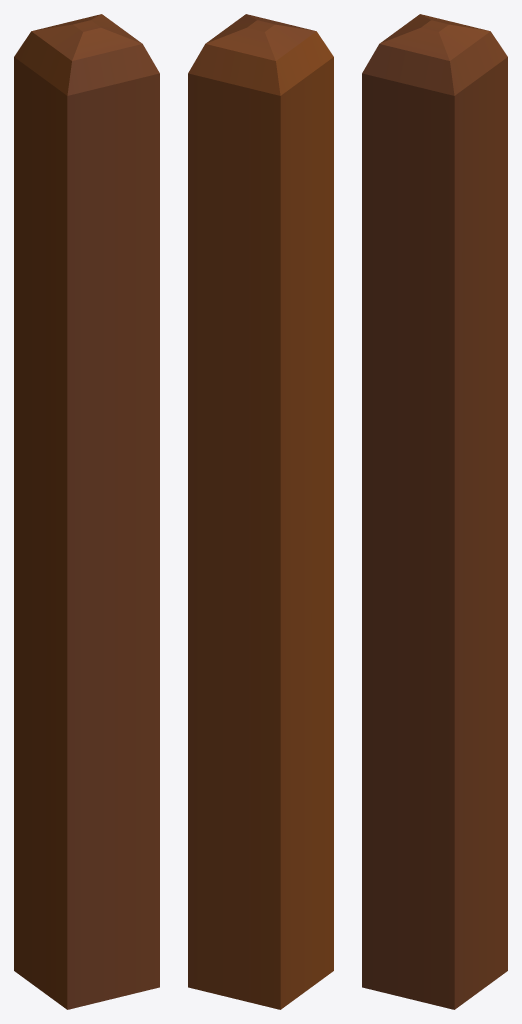
The model's file is B01_Corner_Fence.fbx.
3 views of the same model, side by side, from view 1: azimuth 30°, elevation 25°; view 2: azimuth 150°, elevation 25°; view 3: azimuth 330°, elevation 25° (orthographic).
Visible parts, largest first — view 1: B01_Corner_Fence; view 2: B01_Corner_Fence; view 3: B01_Corner_Fence.
Boxes of the visible parts, <box> form: B01_Corner_Fence: <box>14,14,159,1009</box>; B01_Corner_Fence: <box>188,14,333,1009</box>; B01_Corner_Fence: <box>362,14,507,1009</box>.
Size of the model in its own units: 13.18 by 130 by 13.18.
